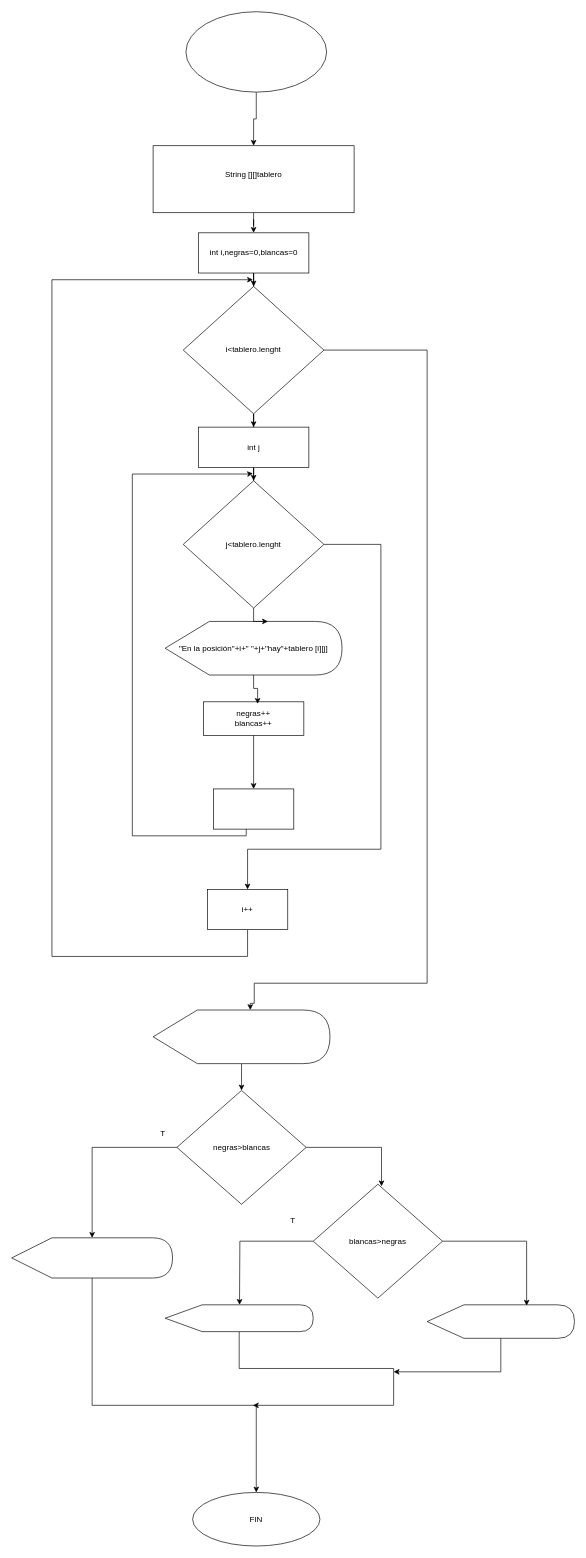
The diagram is 586 pixels wide and 1558 high, and some of its shapes have lost their labels. The box of each missing label's shape, as (x1, y1, x2, y2) in pixels:
"Hay"+negras+"negras" "Hay"+blancas+"blancas": (152, 1009, 330, 1064)
"Las blancas van ganando": (164, 1304, 313, 1332)
"Las negras van ganando": (11, 1237, 173, 1278)
"Van empatadas": (426, 1304, 575, 1338)
INICIO: (185, 11, 327, 92)
j++: (213, 788, 294, 829)
